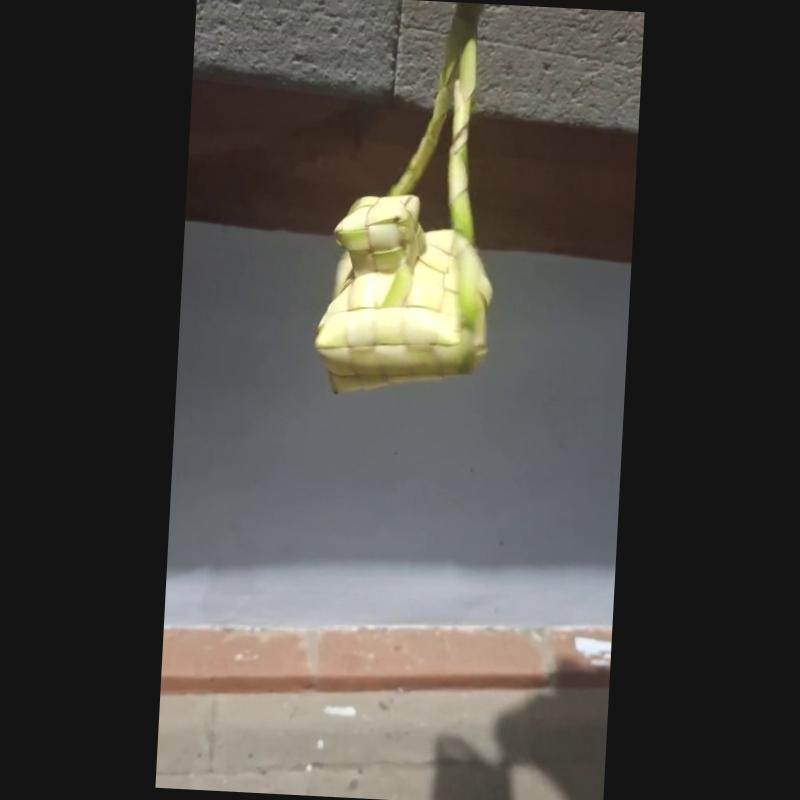Tipat Gong: (310, 2, 493, 397)
